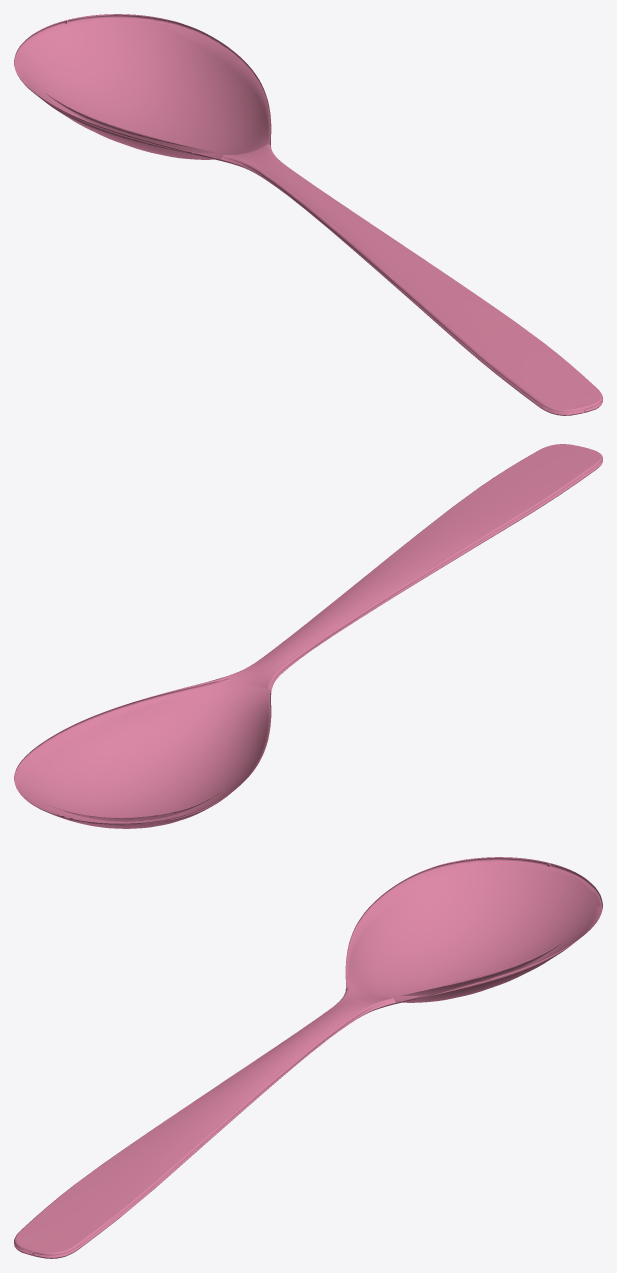
The model's file is teaspoon_mopsig.glb.
3 views of the same model, one above another, from view 1: azimuth 30°, elevation 25°; view 2: azimuth 150°, elevation 25°; view 3: azimuth 330°, elevation 25° (orthographic).
Visible parts, largest first — view 1: Mesh_0; view 2: Mesh_0; view 3: Mesh_0.
Boxes of the visible parts, bbox=[...] form: Mesh_0: bbox=[14, 14, 602, 415]; Mesh_0: bbox=[14, 444, 602, 828]; Mesh_0: bbox=[14, 857, 602, 1258].
Bounding box in the file's own units: 0.0304 × 0.00804 × 0.1422.
